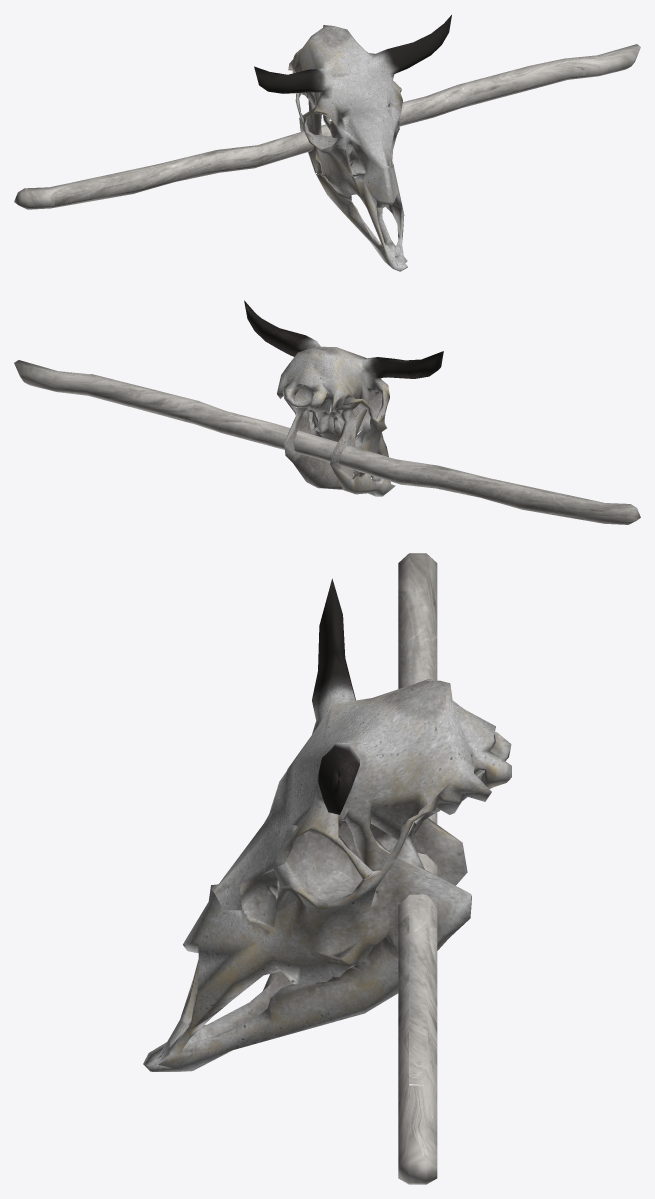
The model's file is topping_5.glb.
The picture shows the model from 3 angles, top to bottom: view 1: azimuth 30°, elevation 25°; view 2: azimuth 150°, elevation 25°; view 3: azimuth 270°, elevation 25°; orthographic projection. The views are drawn at different scales.
Visible parts, largest first — view 1: palka_4; view 2: palka_4; view 3: palka_4.
Part boxes in pixels (x1=…): palka_4: x1=14, y1=15, x2=640, y2=271; palka_4: x1=14, y1=300, x2=640, y2=524; palka_4: x1=143, y1=553, x2=511, y2=1184.
Size of the model in its own units: 77.71 by 24.01 by 19.96.
Materials: 2 (2 with a texture image).
